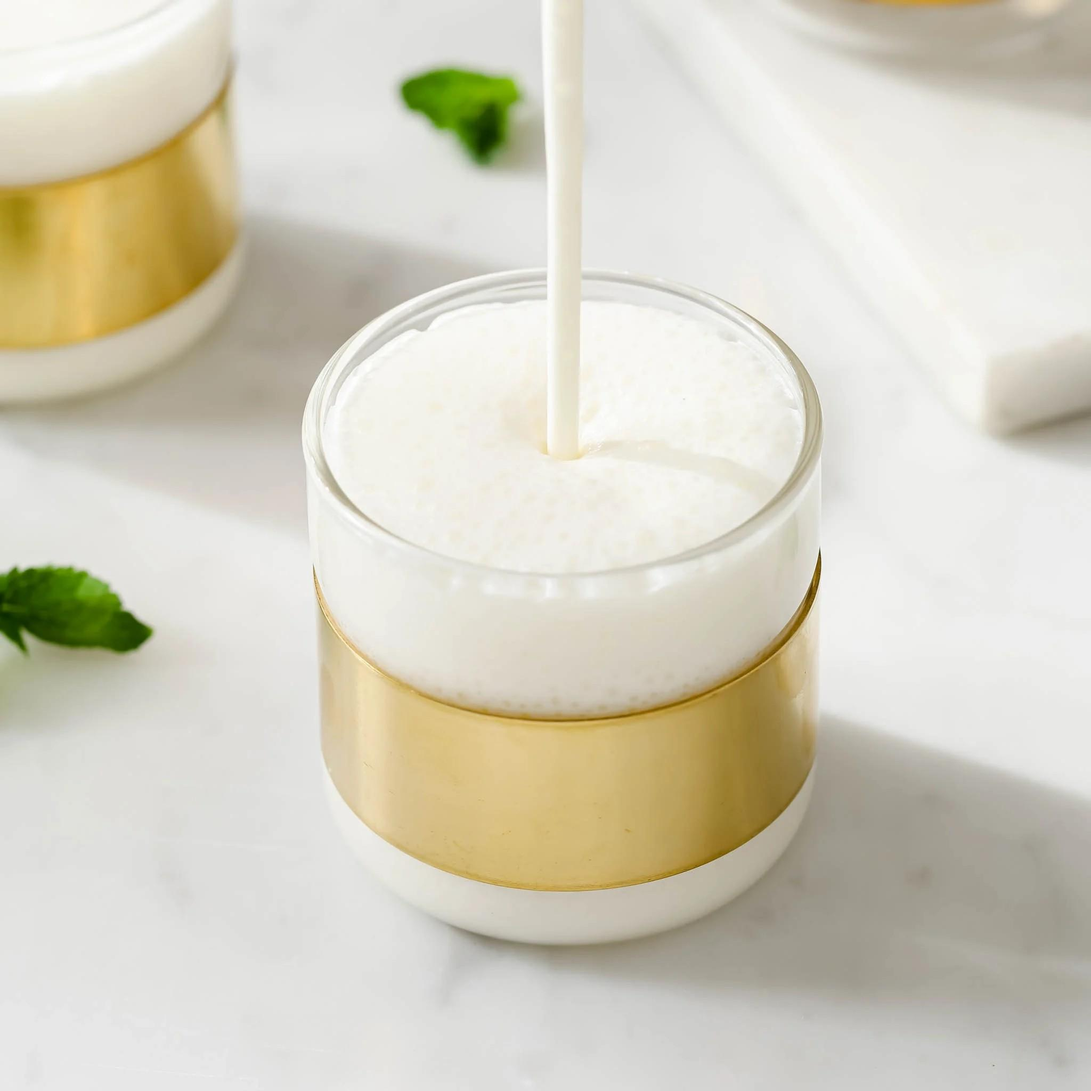Lassi: (326, 298, 817, 958)
